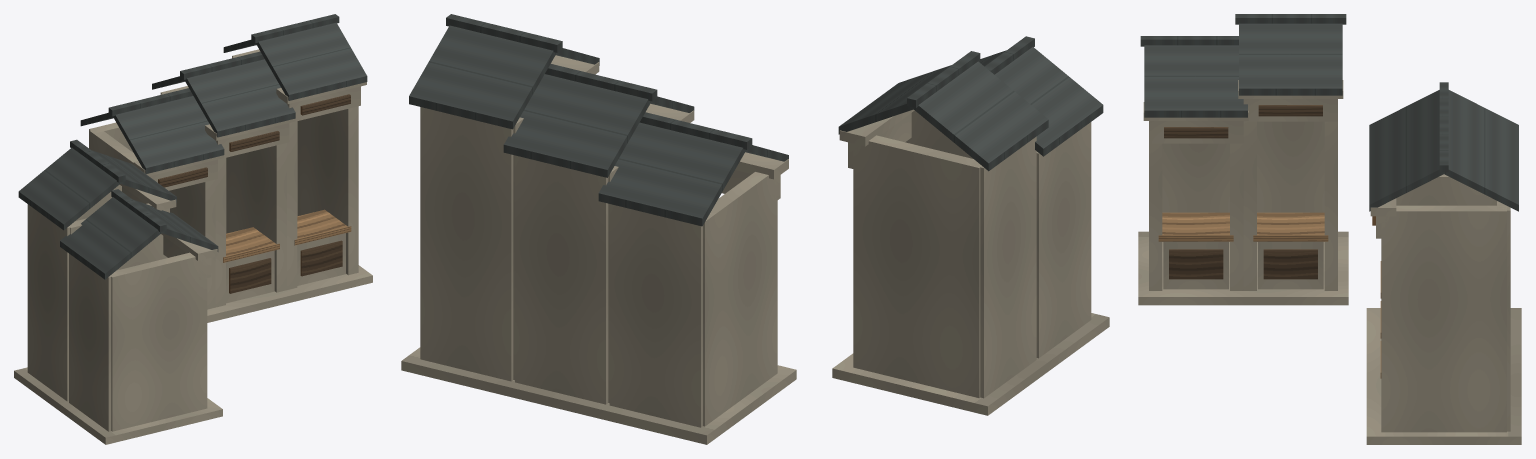
File: vilnius.glb
3 renders of one model, left to right at view 1: azimuth 30°, elevation 25°; view 2: azimuth 150°, elevation 25°; view 3: azimuth 270°, elevation 25°, orthographic. The views are drawn at different scales.
Visible parts, largest first — view 1: vilnius; view 2: vilnius; view 3: vilnius.
Boxes of the visible parts, x1,y1,x2,y2 form: vilnius: (14,14,372,444); vilnius: (401,14,1109,444); vilnius: (1138,14,1521,444).
Bounding box in the file's own units: 3.95 × 2.5 × 3.12.
Materials: 1 (1 with a texture image).
